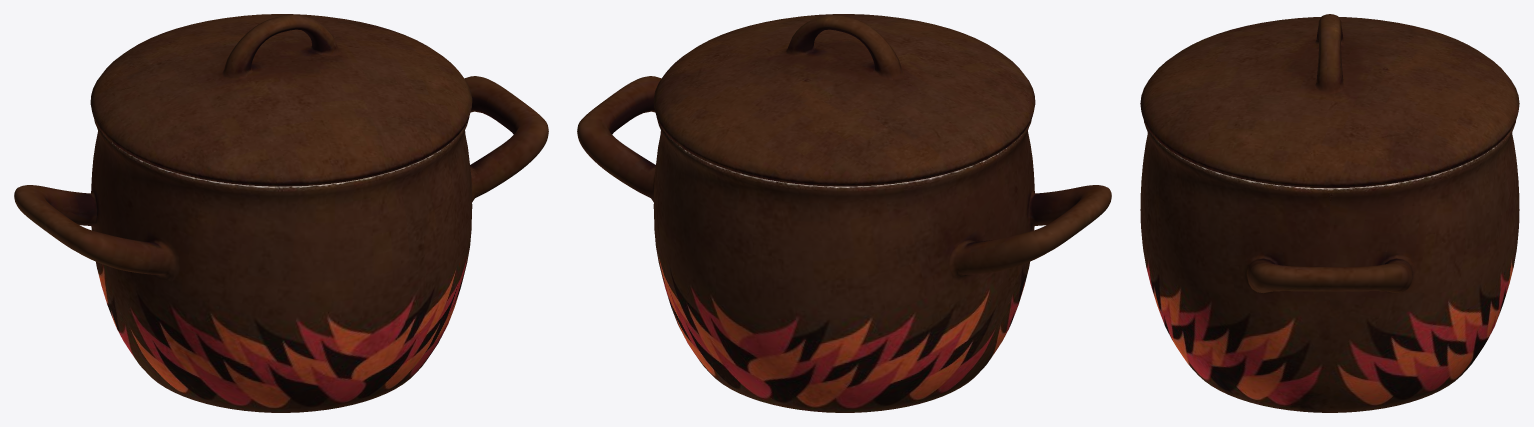
The model's file is pot.glb.
The picture shows the model from 3 angles, left to right: view 1: azimuth 30°, elevation 25°; view 2: azimuth 150°, elevation 25°; view 3: azimuth 270°, elevation 25°; orthographic projection.
Parts seen in each view (by area): view 1: pot_enamel_01_base, pot_enamel_01_lid; view 2: pot_enamel_01_base, pot_enamel_01_lid; view 3: pot_enamel_01_base, pot_enamel_01_lid.
Boxes of the visible parts, x1=… form: pot_enamel_01_base: x1=14, y1=76, x2=548, y2=412; pot_enamel_01_lid: x1=90, y1=14, x2=472, y2=186; pot_enamel_01_base: x1=577, y1=76, x2=1111, y2=412; pot_enamel_01_lid: x1=653, y1=14, x2=1035, y2=186; pot_enamel_01_base: x1=1140, y1=121, x2=1519, y2=412; pot_enamel_01_lid: x1=1140, y1=14, x2=1519, y2=188.
Size of the model in its own units: 0.2629 by 0.1783 by 0.1805.
Materials: 1 (1 with a texture image).
